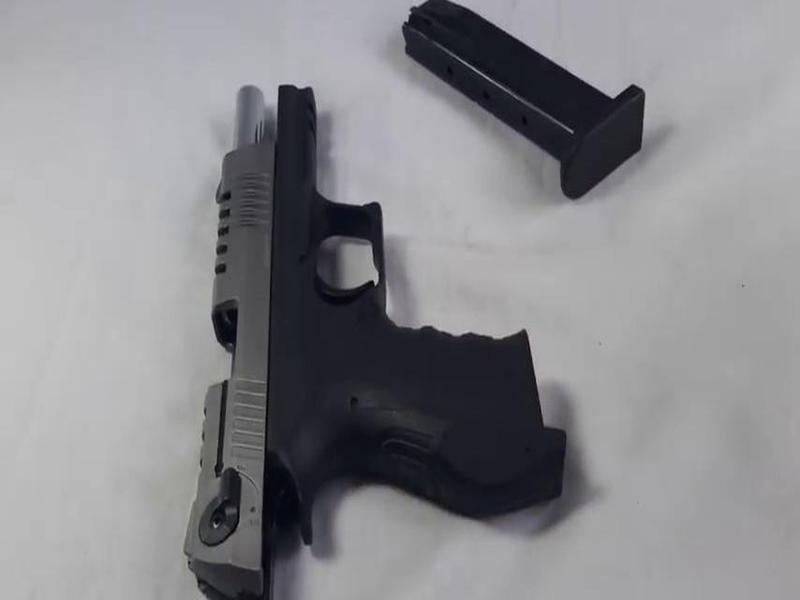Pistola: (187, 59, 594, 599)
